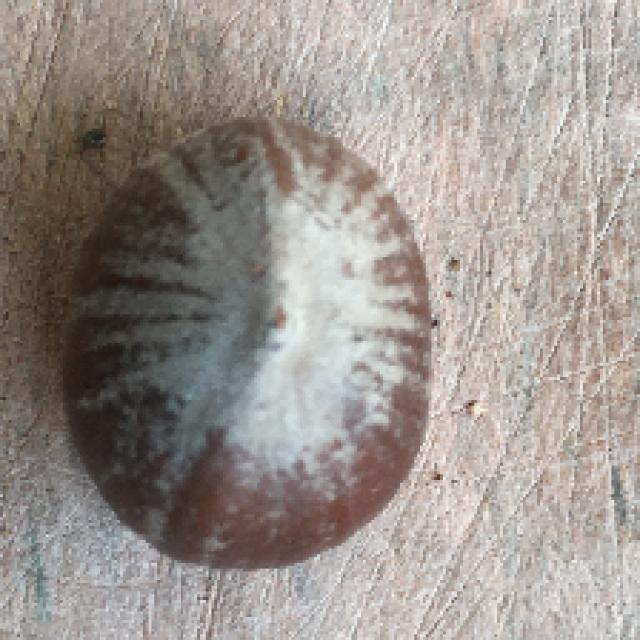damagedHazelnut: (57, 113, 442, 567)
